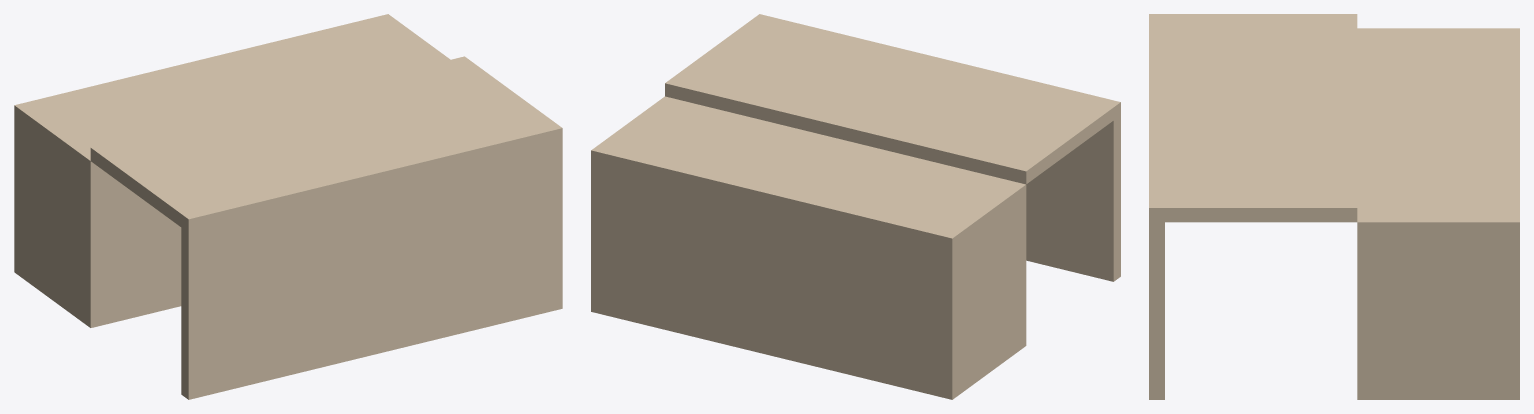
The model's file is throw-sofa.glb.
The picture shows the model from 3 angles, left to right: view 1: azimuth 30°, elevation 25°; view 2: azimuth 150°, elevation 25°; view 3: azimuth 270°, elevation 25°; orthographic projection. The views are drawn at different scales.
Visible parts, largest first — view 1: throw-sofa; view 2: throw-sofa; view 3: throw-sofa.
Boxes of the visible parts, left/top/right/bottom form: throw-sofa: left=14, top=14, right=562, bottom=399; throw-sofa: left=591, top=14, right=1120, bottom=399; throw-sofa: left=1149, top=14, right=1519, bottom=399.
Size of the model in its own units: 0.52 by 0.24 by 0.42.
